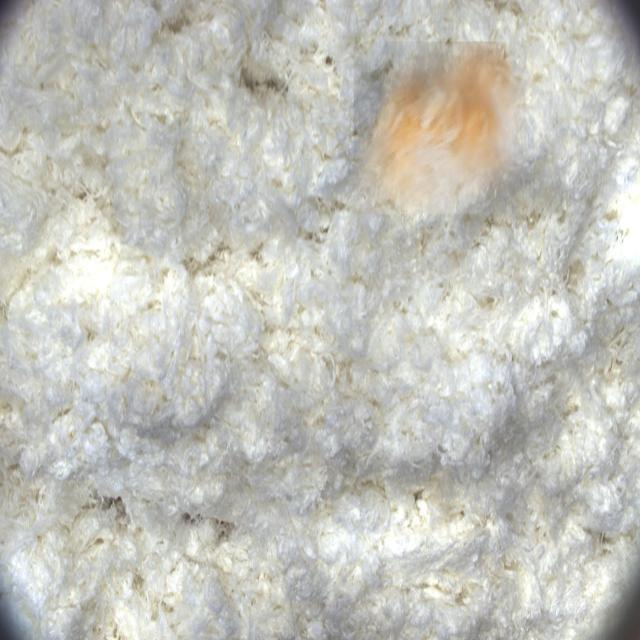dust: (354, 41, 526, 214)
